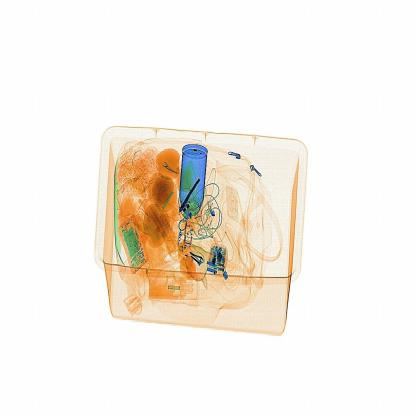knife: (176, 176, 203, 216)
